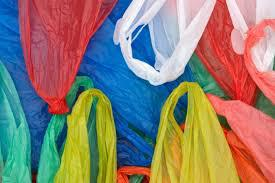Plastic: (146, 78, 243, 182), (112, 0, 216, 85), (54, 86, 122, 182)
